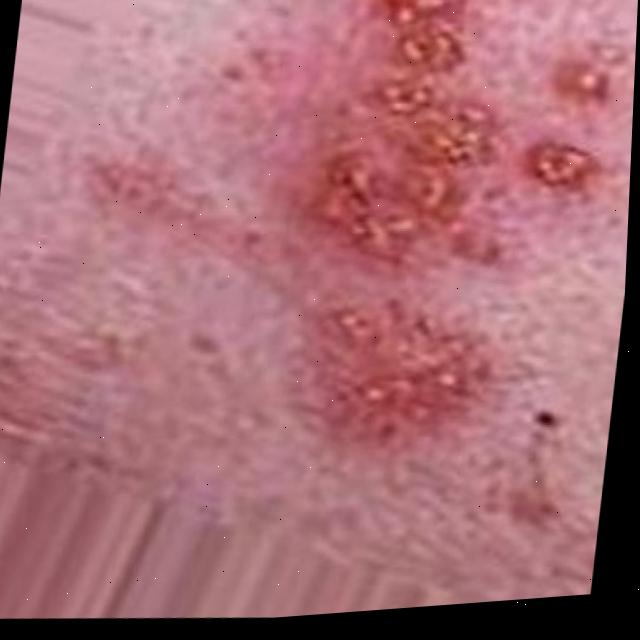Shingles: (291, 0, 616, 282), (316, 287, 476, 440)
